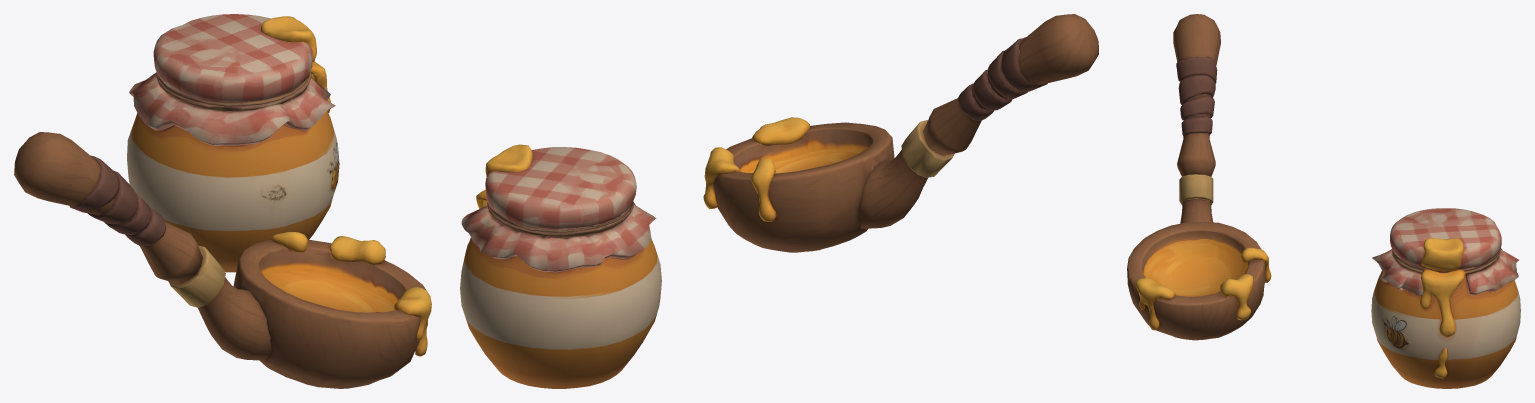
Rendered from rider_props_tripo.glb.
3 renders of one model, left to right at view 1: azimuth 30°, elevation 25°; view 2: azimuth 150°, elevation 25°; view 3: azimuth 270°, elevation 25°, orthographic. The views are drawn at different scales.
Visible parts, largest first — view 1: tripo_node_7b1e40a0-3c78-4e17-82b5-41e77f11d617; view 2: tripo_node_7b1e40a0-3c78-4e17-82b5-41e77f11d617; view 3: tripo_node_7b1e40a0-3c78-4e17-82b5-41e77f11d617.
Part boxes in pixels (bbox=[...]): tripo_node_7b1e40a0-3c78-4e17-82b5-41e77f11d617: bbox=[14, 14, 431, 388]; tripo_node_7b1e40a0-3c78-4e17-82b5-41e77f11d617: bbox=[460, 14, 1098, 388]; tripo_node_7b1e40a0-3c78-4e17-82b5-41e77f11d617: bbox=[1127, 14, 1520, 388].
Bounding box in the file's own units: 0.998 × 0.6543 × 0.998.
1 material, 1 textured.
